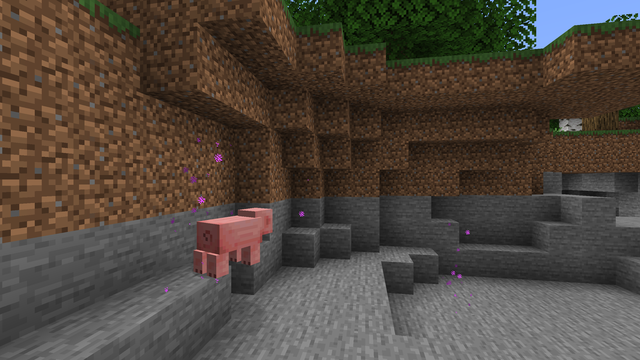cochons: (194, 214, 262, 275)
